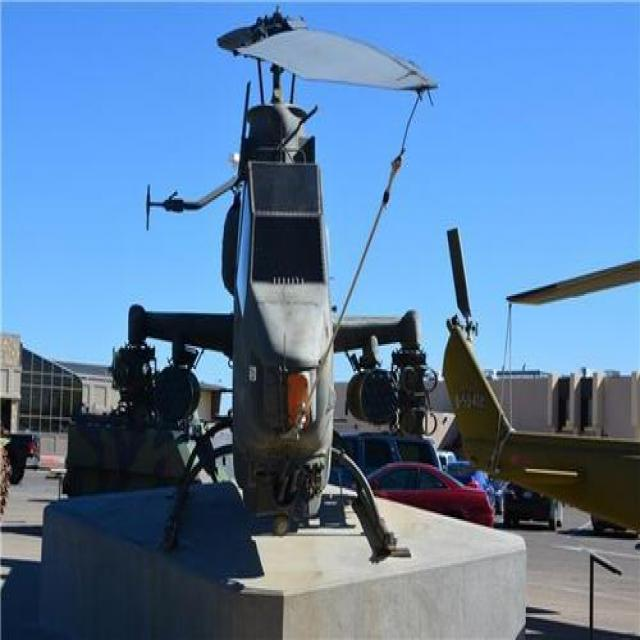MIL_HELO: (97, 2, 461, 570)
